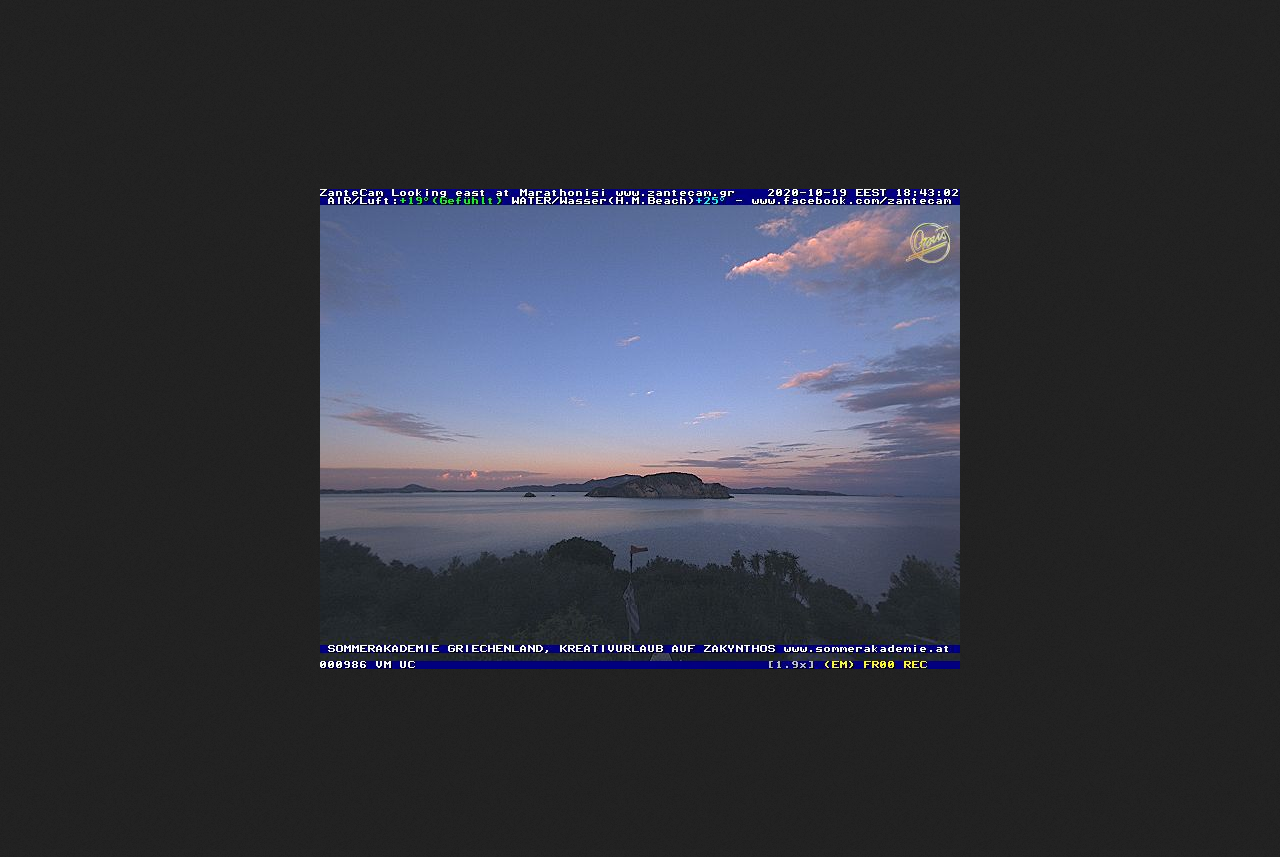no: (621, 577, 646, 642)
